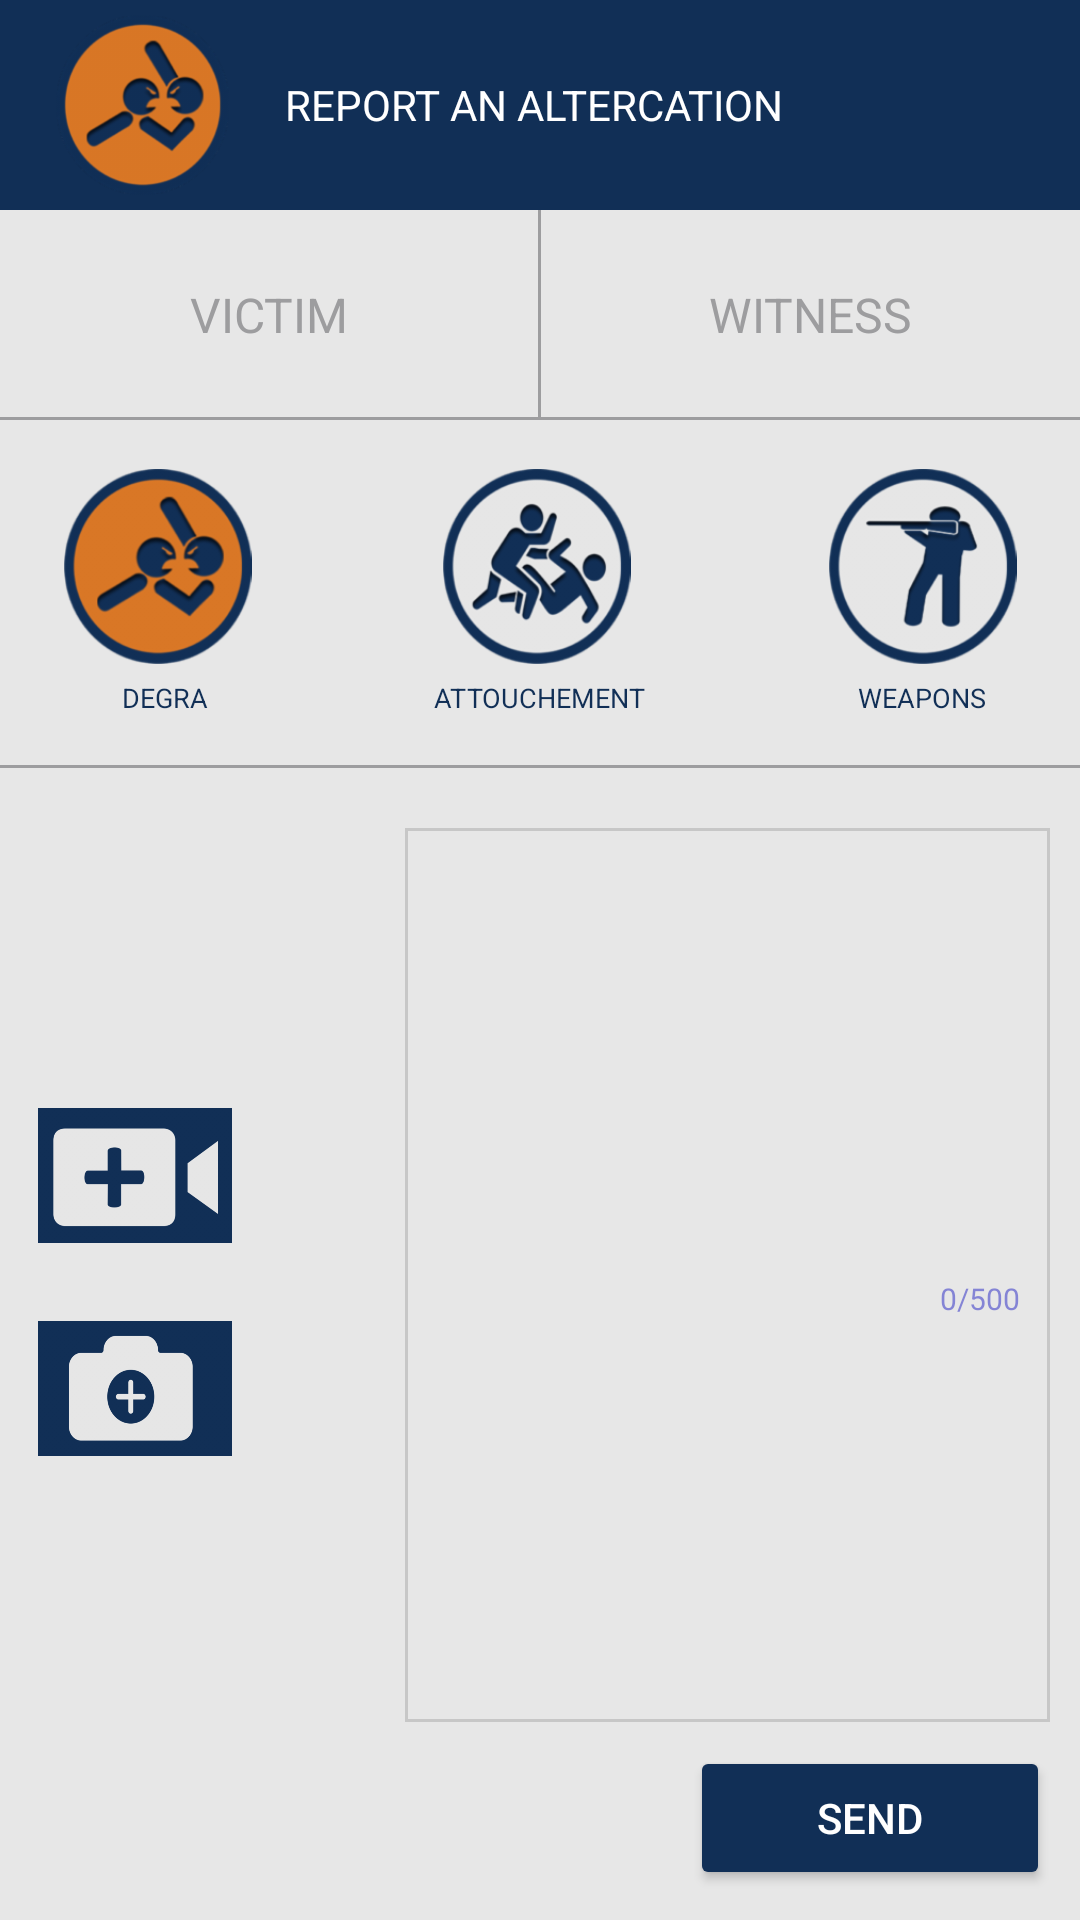

Icons on this 1080px x 1920px Android screen, each with its box as [x1=x1, y1=y1, x2=x2, y2=y2]:
arguement: [x1=64, y1=24, x2=221, y2=186], [x1=64, y1=469, x2=252, y2=664]
camera: [x1=38, y1=1321, x2=232, y2=1456]
fight: [x1=443, y1=469, x2=631, y2=664]
vedio: [x1=38, y1=1108, x2=232, y2=1243]
